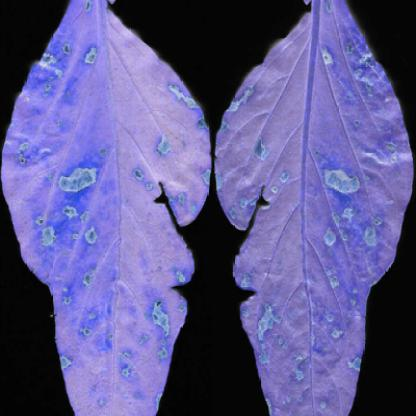bell pepper leaf spot: (3, 4, 214, 415), (212, 4, 412, 415)
